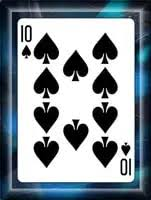ten of spades: (16, 18, 135, 181)
